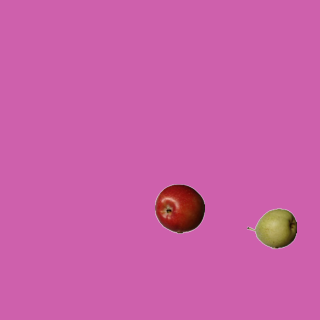Apple Braeburn: (154, 183, 204, 233)
Pear: (246, 203, 296, 253)
